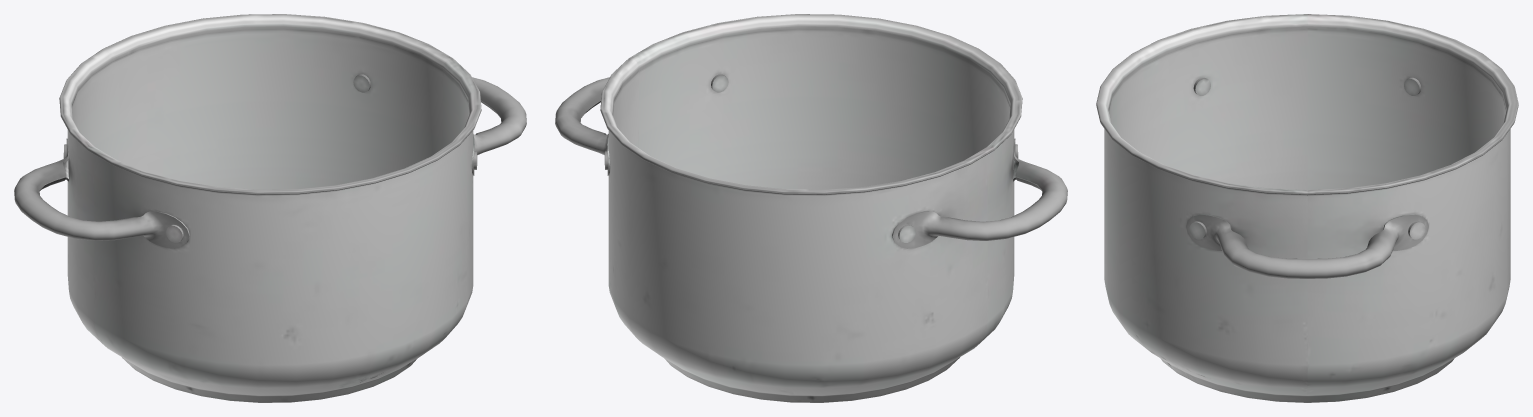
Rendered from steamer_pot.glb.
3 renders of one model, left to right at view 1: azimuth 30°, elevation 25°; view 2: azimuth 150°, elevation 25°; view 3: azimuth 270°, elevation 25°, orthographic.
Parts seen in each view (by area): view 1: Pot_Pot_0; view 2: Pot_Pot_0; view 3: Pot_Pot_0.
Boxes of the visible parts, left/top/right/bottom form: Pot_Pot_0: left=14, top=14, right=526, bottom=402; Pot_Pot_0: left=555, top=14, right=1067, bottom=402; Pot_Pot_0: left=1096, top=14, right=1518, bottom=402.
Size of the model in its own units: 0.274 by 0.1275 by 0.208.
Materials: 1 (1 with a texture image).
